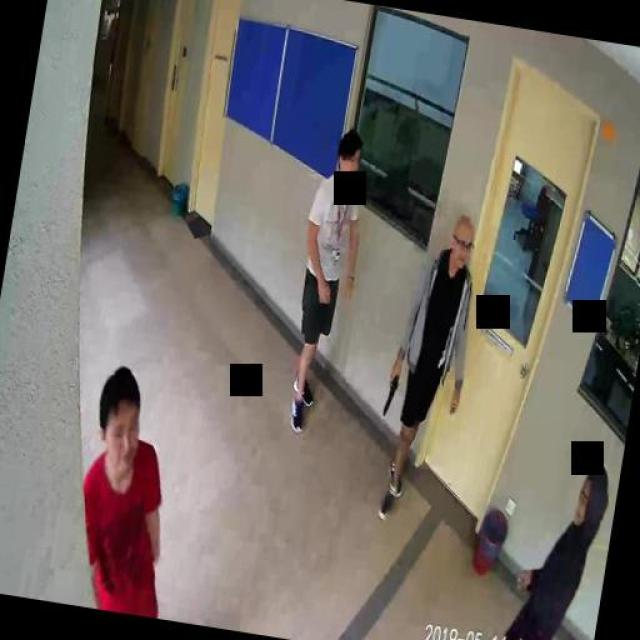gun: (380, 368, 399, 413)
